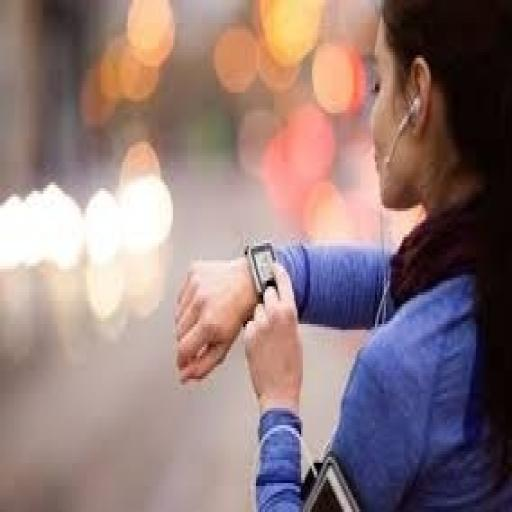texting: (171, 0, 510, 509)
